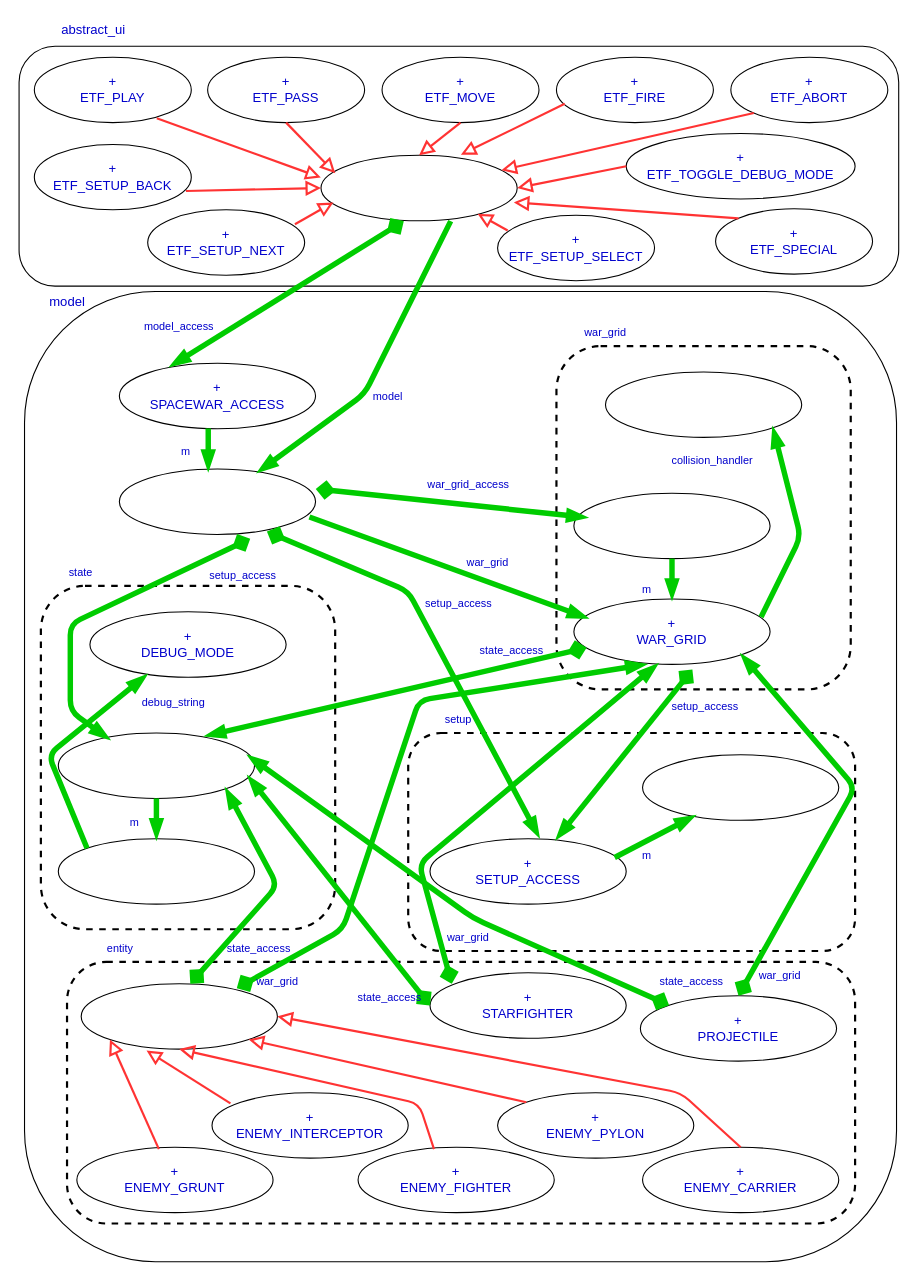
The diagram is 918 pixels wide and 1281 high, and some of its shapes have lost their labels. Each missing label, with the box of its shape:
* ENEMY: (80, 983, 277, 1049)
* ETF_COMMAND: (320, 154, 517, 221)
+ COLLISIONS: (604, 371, 802, 437)
+ SETUP: (641, 754, 839, 820)
+ SPACEWAR: (118, 468, 316, 534)
+ STATE: (57, 838, 255, 904)
+ STATE_ACCESS: (57, 732, 255, 798)
+ WAR_GRID_ACCESS: (573, 492, 770, 559)
